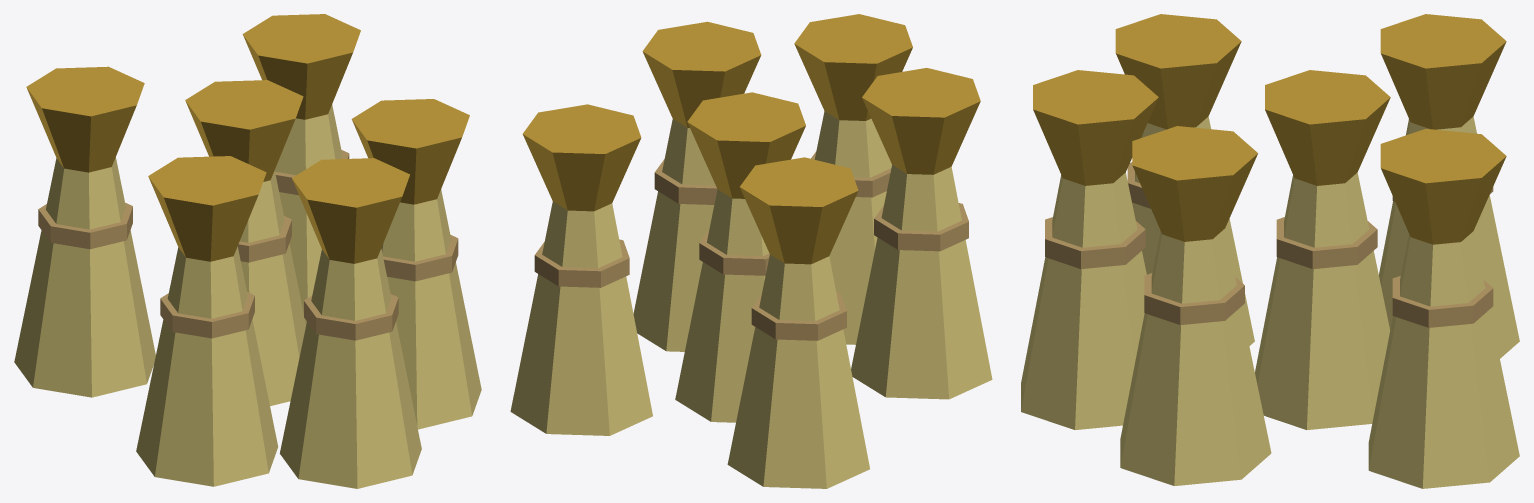
File: pile_barley_3.glb
The picture shows the model from 3 angles, left to right: view 1: azimuth 30°, elevation 25°; view 2: azimuth 150°, elevation 25°; view 3: azimuth 270°, elevation 25°; orthographic projection. The views are drawn at different scales.
Parts seen in each view (by area): view 1: pile_barley_3; view 2: pile_barley_3; view 3: pile_barley_3.
Boxes of the visible parts, x1,y1,x2,y2 form: pile_barley_3: [14, 14, 481, 488]; pile_barley_3: [510, 14, 992, 488]; pile_barley_3: [1021, 14, 1519, 488].
Size of the model in its own units: 1.29 by 1 by 1.51.
